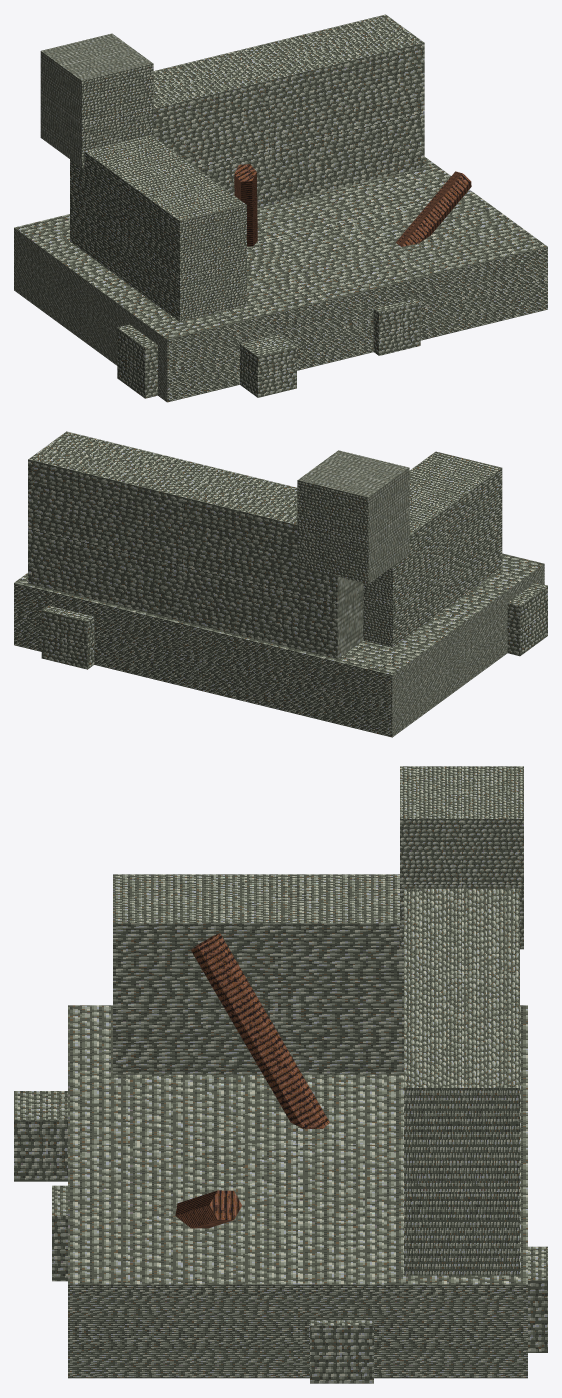
File: kitovu_ruina.glb
3 renders of one model, top to bottom at view 1: azimuth 30°, elevation 25°; view 2: azimuth 150°, elevation 25°; view 3: azimuth 270°, elevation 25°, orthographic. The views are drawn at different scales.
Parts seen in each view (by area): view 1: Cube, Cube.001, Cube.002, Cube.003, Cube.007, Cube.004, Cube.008, Cylinder.001, Cylinder; view 2: Cube.001, Cube, Cube.002, Cube.003, Cube.006, Cube.004; view 3: Cube, Cube.002, Cube.001, Cube.003, Cylinder, Cube.007, Cube.009, Cube.006, Cylinder.001, Cube.008.
Part boxes in pixels (left/top/right/bottom): Cube: left=14, top=157, right=547, bottom=402; Cube.001: left=153, top=14, right=424, bottom=208; Cube.002: left=70, top=135, right=246, bottom=321; Cube.003: left=40, top=33, right=153, bottom=167; Cube.007: left=240, top=334, right=296, bottom=397; Cube.004: left=117, top=324, right=157, bottom=398; Cube.008: left=373, top=298, right=420, bottom=355; Cylinder.001: left=395, top=171, right=471, bottom=246; Cylinder: left=234, top=164, right=257, bottom=246; Cube.001: left=28, top=431, right=363, bottom=659; Cube: left=14, top=553, right=544, bottom=737; Cube.002: left=363, top=451, right=502, bottom=647; Cube.003: left=297, top=450, right=409, bottom=583; Cube.006: left=41, top=605, right=94, bottom=669; Cube.004: left=507, top=582, right=547, bottom=656; Cube: left=68, top=1005, right=527, bottom=1378; Cube.002: left=113, top=874, right=403, bottom=1074; Cube.001: left=404, top=888, right=519, bottom=1275; Cube.003: left=400, top=766, right=523, bottom=949; Cylinder: left=191, top=933, right=329, bottom=1128; Cube.007: left=14, top=1091, right=67, bottom=1181; Cube.009: left=310, top=1320, right=373, bottom=1383; Cube.006: left=528, top=1246, right=547, bottom=1352; Cylinder.001: left=175, top=1190, right=242, bottom=1228; Cube.008: left=52, top=1185, right=67, bottom=1281.
Size of the model in its own units: 3.47 by 2.12 by 2.67.
2 materials, 2 textured.
